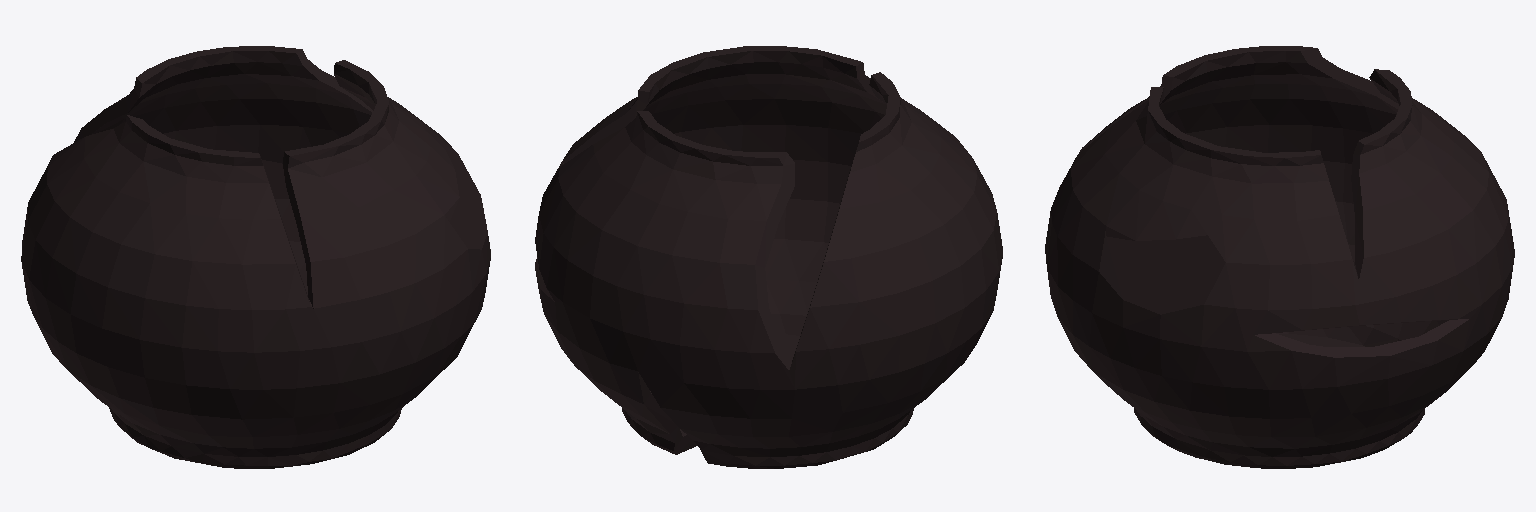
Rendered from KUVSHIN_1.obj.
3 renders of one model, left to right at view 1: azimuth 30°, elevation 25°; view 2: azimuth 150°, elevation 25°; view 3: azimuth 270°, elevation 25°, orthographic.
Visible parts, largest first — view 1: Cylinder; view 2: Cylinder; view 3: Cylinder.
Boxes of the visible parts, box(x1,y1,x2,y2) form: Cylinder: box(21, 46, 490, 468); Cylinder: box(535, 46, 1002, 468); Cylinder: box(1045, 46, 1514, 468).
Size of the model in its own units: 3.17 by 2.29 by 3.17.